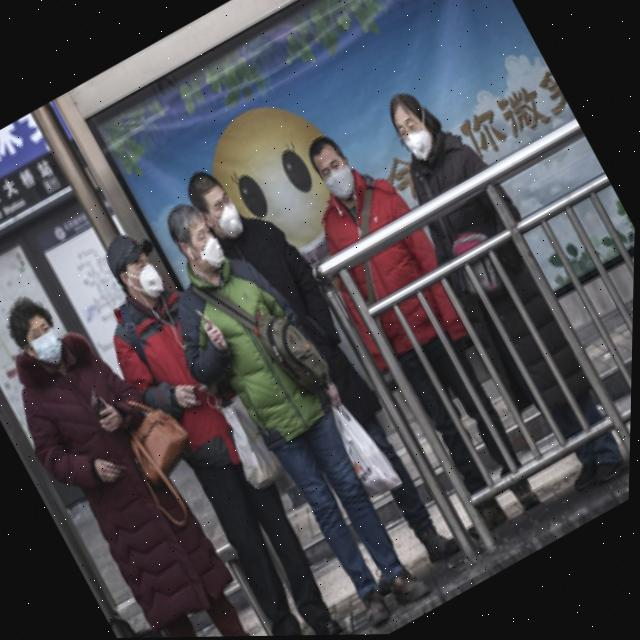Mask: (22, 328, 71, 374), (211, 200, 255, 245), (128, 262, 171, 307), (403, 122, 444, 165), (324, 163, 365, 205), (200, 237, 235, 275)
